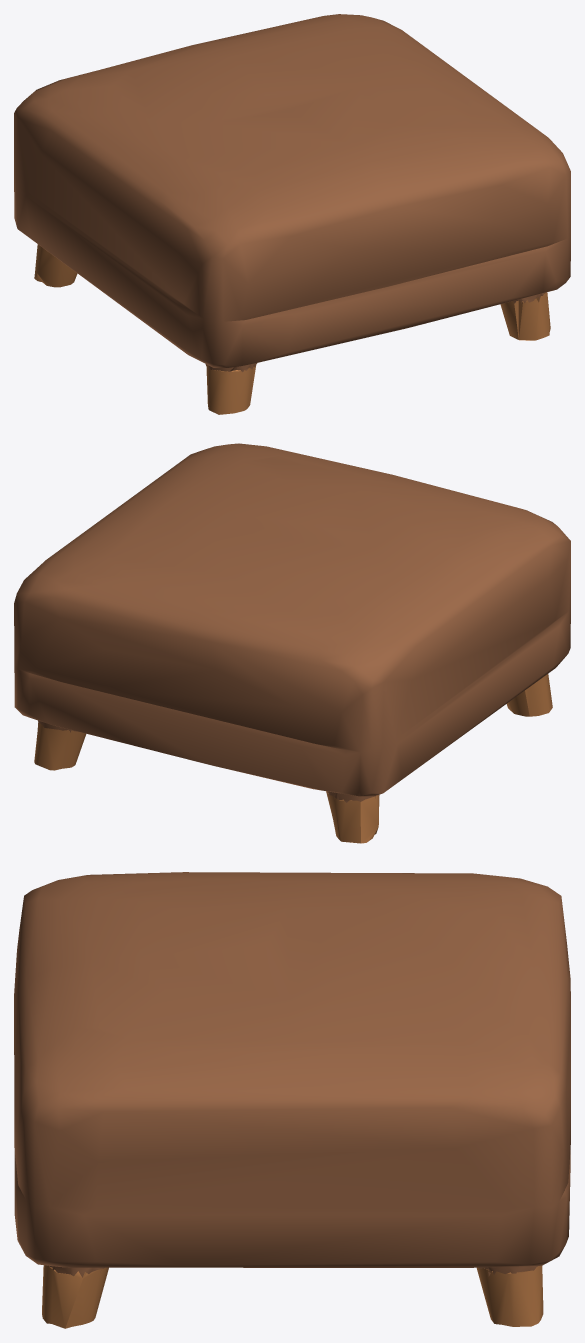
The model's file is ottoman.glb.
The picture shows the model from 3 angles, top to bottom: view 1: azimuth 30°, elevation 25°; view 2: azimuth 150°, elevation 25°; view 3: azimuth 270°, elevation 25°; orthographic projection. The views are drawn at different scales.
Parts seen in each view (by area): view 1: ottoman_fabric, ottoman_wood; view 2: ottoman_fabric, ottoman_wood; view 3: ottoman_fabric, ottoman_wood.
Boxes of the visible parts, <box> form: ottoman_fabric: <box>14,14,570,374</box>; ottoman_wood: <box>34,244,550,414</box>; ottoman_fabric: <box>14,443,570,802</box>; ottoman_wood: <box>34,674,552,843</box>; ottoman_fabric: <box>14,872,570,1277</box>; ottoman_wood: <box>42,1265,543,1328</box>.
Bounding box in the file's own units: 0.869 × 0.4599 × 0.8694.
